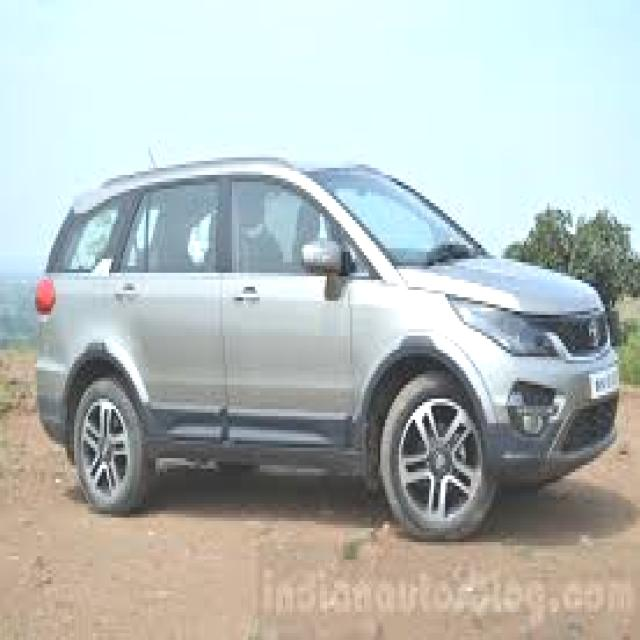SUV: (33, 149, 618, 541)
